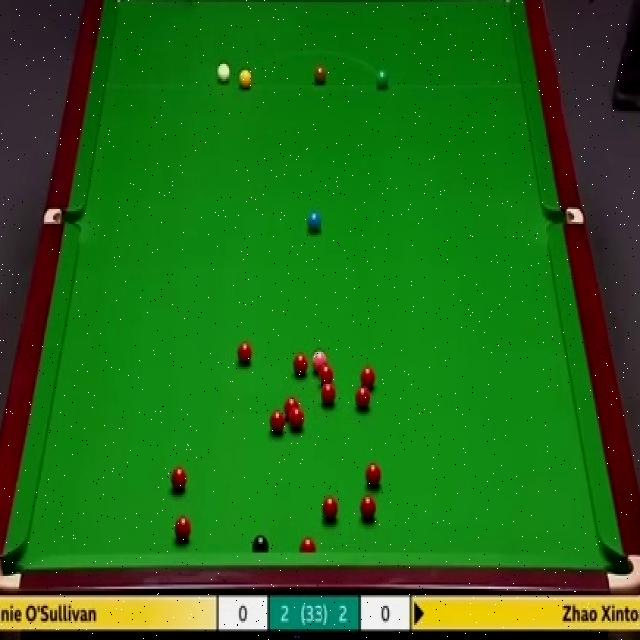black-ball: (251, 531, 269, 556)
blue-ball: (308, 212, 322, 233)
brown-ball: (314, 67, 326, 88)
green-ball: (374, 68, 390, 90)
pink-ball: (312, 347, 328, 372)
red-ball: (359, 493, 377, 523), (363, 461, 382, 489), (170, 465, 188, 492), (235, 339, 252, 367), (174, 514, 191, 541), (320, 381, 337, 408), (322, 494, 339, 521), (292, 351, 309, 376), (289, 404, 305, 430), (269, 409, 285, 434), (359, 364, 376, 387), (355, 386, 371, 410), (318, 364, 334, 384), (299, 536, 316, 553), (284, 396, 299, 415)
white-ball: (216, 60, 232, 86)
yellow-ball: (238, 66, 252, 89)
